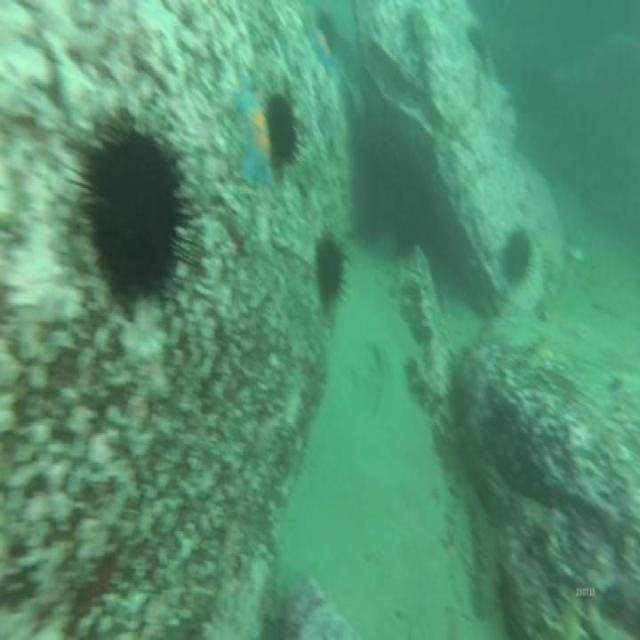echinus: (81, 111, 191, 313), (312, 228, 347, 314), (266, 87, 300, 172), (499, 221, 534, 289)
starfish: (232, 75, 277, 186), (308, 25, 338, 84)
